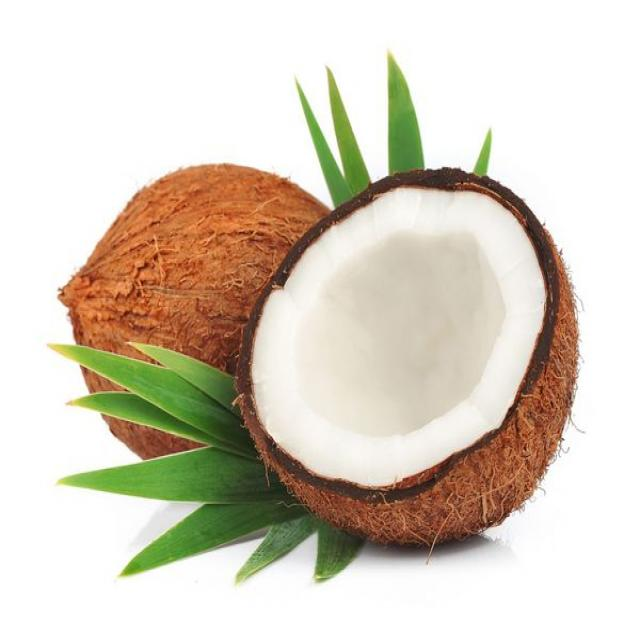coconut: (233, 166, 582, 549), (53, 162, 236, 469)
